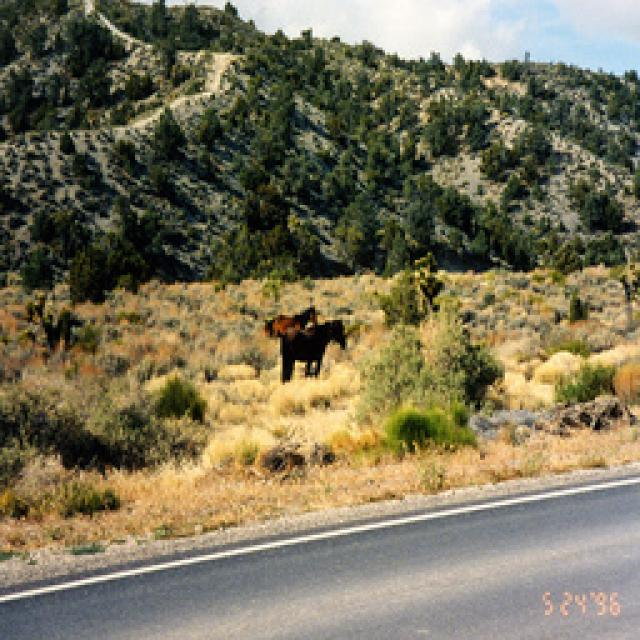not_pig: (277, 318, 345, 382), (262, 305, 318, 337)
